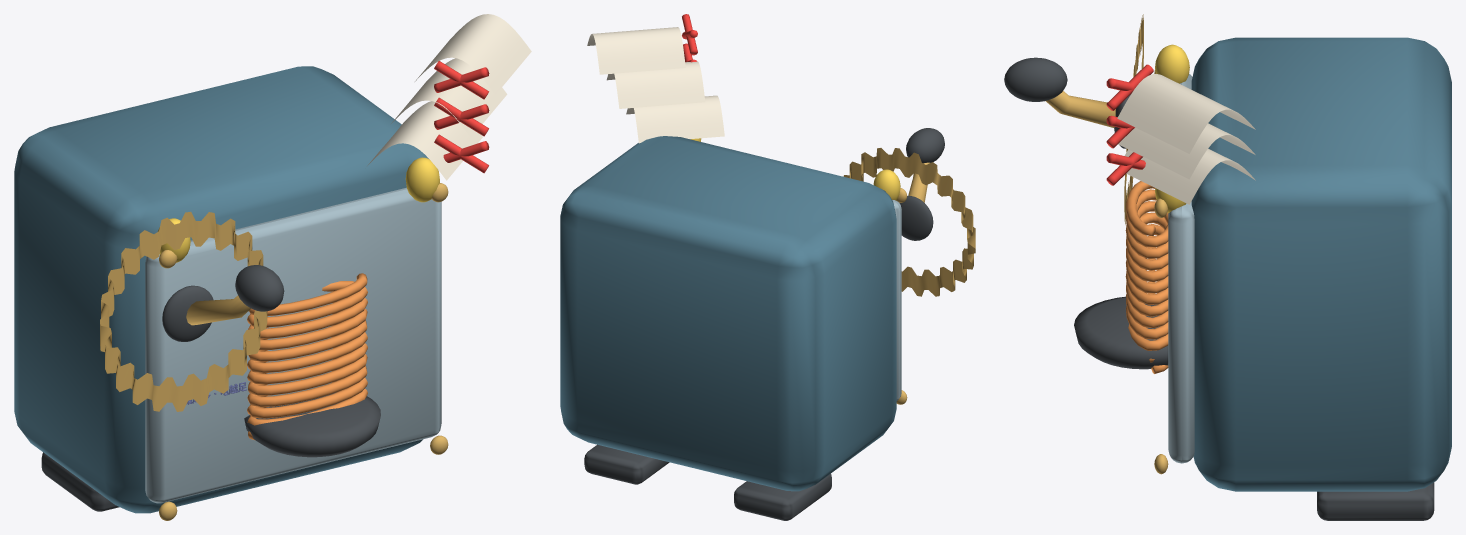
File: S04_Wrong_Answer_Generator.glb
The picture shows the model from 3 angles, left to right: view 1: azimuth 30°, elevation 25°; view 2: azimuth 150°, elevation 25°; view 3: azimuth 270°, elevation 25°; orthographic projection. The views are drawn at different scales.
Visible parts, largest first — view 1: S04 3D cast generator aluminum case, S04 industrial reinforced front face, S04 actual helical inductance copper wire spool, S04_CRANK_ACTOR | Wrong answer turbine wheel antique brass, S04_TEST_PAPER_ACTOR | Real cream paper lesson test, S04_MACHINE_STATIC | Neoprene handle machinery grip, S04_CRANK_ACTOR | Neoprene handle machinery grip, S04_TEST_PAPER_ACTOR | Red wrong-answer scarlet raised cross, S04_CRANK_ACTOR | Embossed electric yellow bolt, S04_MACHINE_STATIC | Wrong answer turbine wheel antique bras; view 2: S04 3D cast generator aluminum case, S04_TEST_PAPER_ACTOR | Real cream paper lesson test, S04_CRANK_ACTOR | Wrong answer turbine wheel antique brass, S04_MACHINE_STATIC | Neoprene handle machinery grip, S04_CRANK_ACTOR | Neoprene handle machinery grip, S04 industrial reinforced front face, S04_CRANK_ACTOR | Embossed electric yellow bolt, S04_TEST_PAPER_ACTOR | Red wrong-answer scarlet raised cross; view 3: S04 3D cast generator aluminum case, S04_TEST_PAPER_ACTOR | Real cream paper lesson test, S04_MACHINE_STATIC | Neoprene handle machinery grip, S04 industrial reinforced front face, S04 actual helical inductance copper wire spool, S04_CRANK_ACTOR | Neoprene handle machinery grip, S04_TEST_PAPER_ACTOR | Red wrong-answer scarlet raised cross, S04_CRANK_ACTOR | Wrong answer turbine wheel antique brass, S04_CRANK_ACTOR | Embossed electric yellow bolt.
Part boxes in pixels (x1,y1,x2,y2): S04 3D cast generator aluminum case: (14,66,428,513); S04 industrial reinforced front face: (145,187,441,503); S04 actual helical inductance copper wire spool: (247,273,367,439); S04_CRANK_ACTOR | Wrong answer turbine wheel antique brass: (100,211,267,411); S04_TEST_PAPER_ACTOR | Real cream paper lesson test: (367,14,531,180); S04_MACHINE_STATIC | Neoprene handle machinery grip: (41,392,380,511); S04_CRANK_ACTOR | Neoprene handle machinery grip: (162,265,284,341); S04_TEST_PAPER_ACTOR | Red wrong-answer scarlet raised cross: (434,61,489,173); S04_CRANK_ACTOR | Embossed electric yellow bolt: (157,157,439,262); S04_MACHINE_STATIC | Wrong answer turbine wheel antique bras: (159,183,448,520); S04 3D cast generator aluminum case: (560,136,896,491); S04_TEST_PAPER_ACTOR | Real cream paper lesson test: (587,27,724,143); S04_CRANK_ACTOR | Wrong answer turbine wheel antique brass: (843,148,975,296); S04_MACHINE_STATIC | Neoprene handle machinery grip: (584,444,831,520); S04_CRANK_ACTOR | Neoprene handle machinery grip: (899,128,944,240); S04 industrial reinforced front face: (892,200,901,400); S04_CRANK_ACTOR | Embossed electric yellow bolt: (691,138,900,200); S04_TEST_PAPER_ACTOR | Red wrong-answer scarlet raised cross: (682,14,697,62); S04 3D cast generator aluminum case: (1191,37,1451,491); S04_TEST_PAPER_ACTOR | Real cream paper lesson test: (1117,74,1255,204); S04_MACHINE_STATIC | Neoprene handle machinery grip: (1074,296,1434,520); S04 industrial reinforced front face: (1168,74,1194,463); S04 actual helical inductance copper wire spool: (1125,181,1168,373); S04_CRANK_ACTOR | Neoprene handle machinery grip: (1004,57,1130,148); S04_TEST_PAPER_ACTOR | Red wrong-answer scarlet raised cross: (1106,64,1153,185); S04_CRANK_ACTOR | Wrong answer turbine wheel antique brass: (1045,14,1143,224); S04_CRANK_ACTOR | Embossed electric yellow bolt: (1155,44,1189,213).
Bounding box in the file's own units: 1.69 × 1.6 × 1.41.
